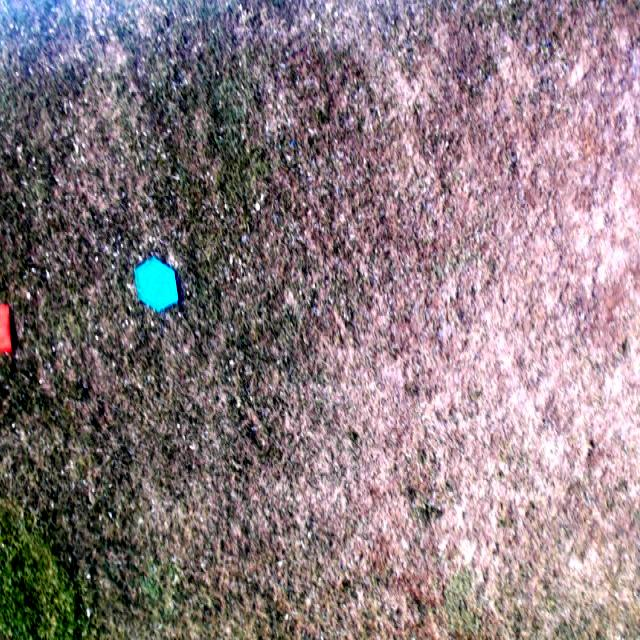blue_hexagon: (134, 256, 180, 313)
